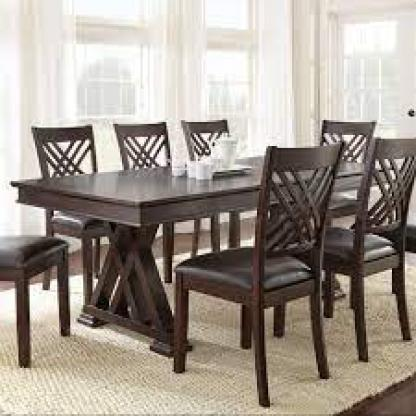Dining Table: (4, 86, 412, 412)
